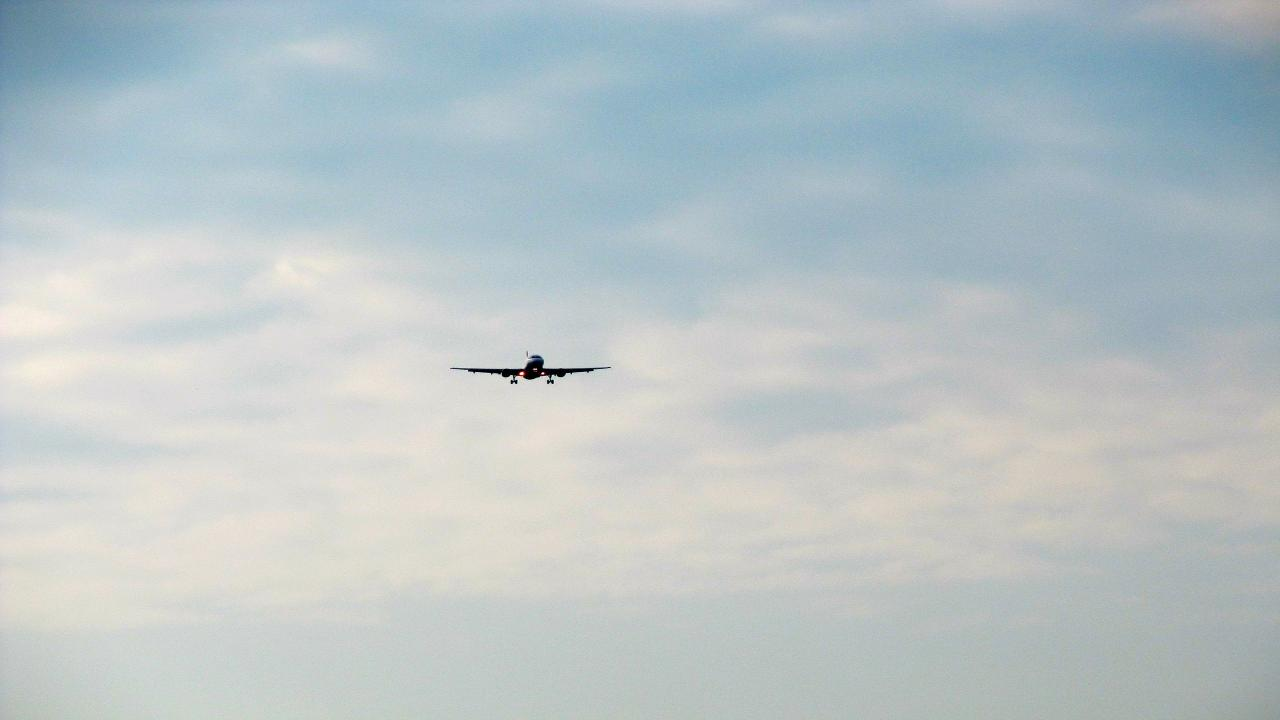Airplane: (435, 343, 616, 394)
